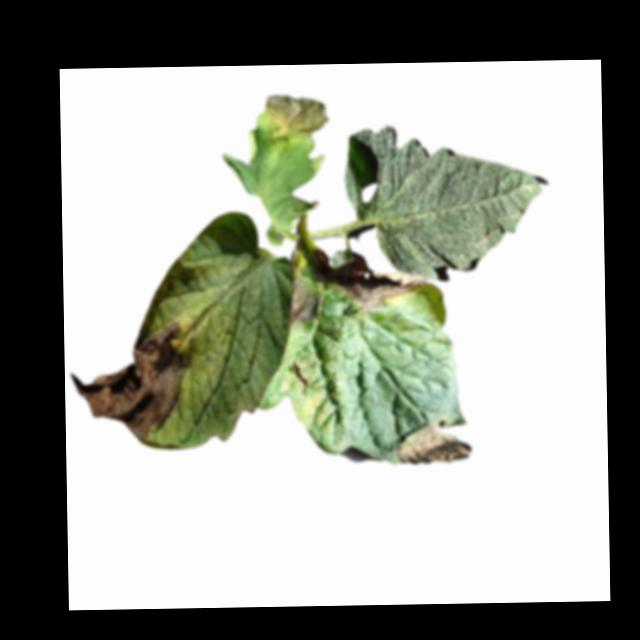Late_blight: (74, 315, 191, 441), (336, 252, 429, 311), (394, 419, 472, 465), (264, 94, 330, 144), (283, 270, 323, 330)
